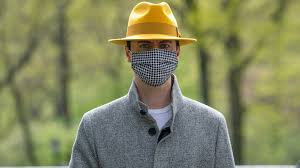mask: (132, 49, 178, 85)
